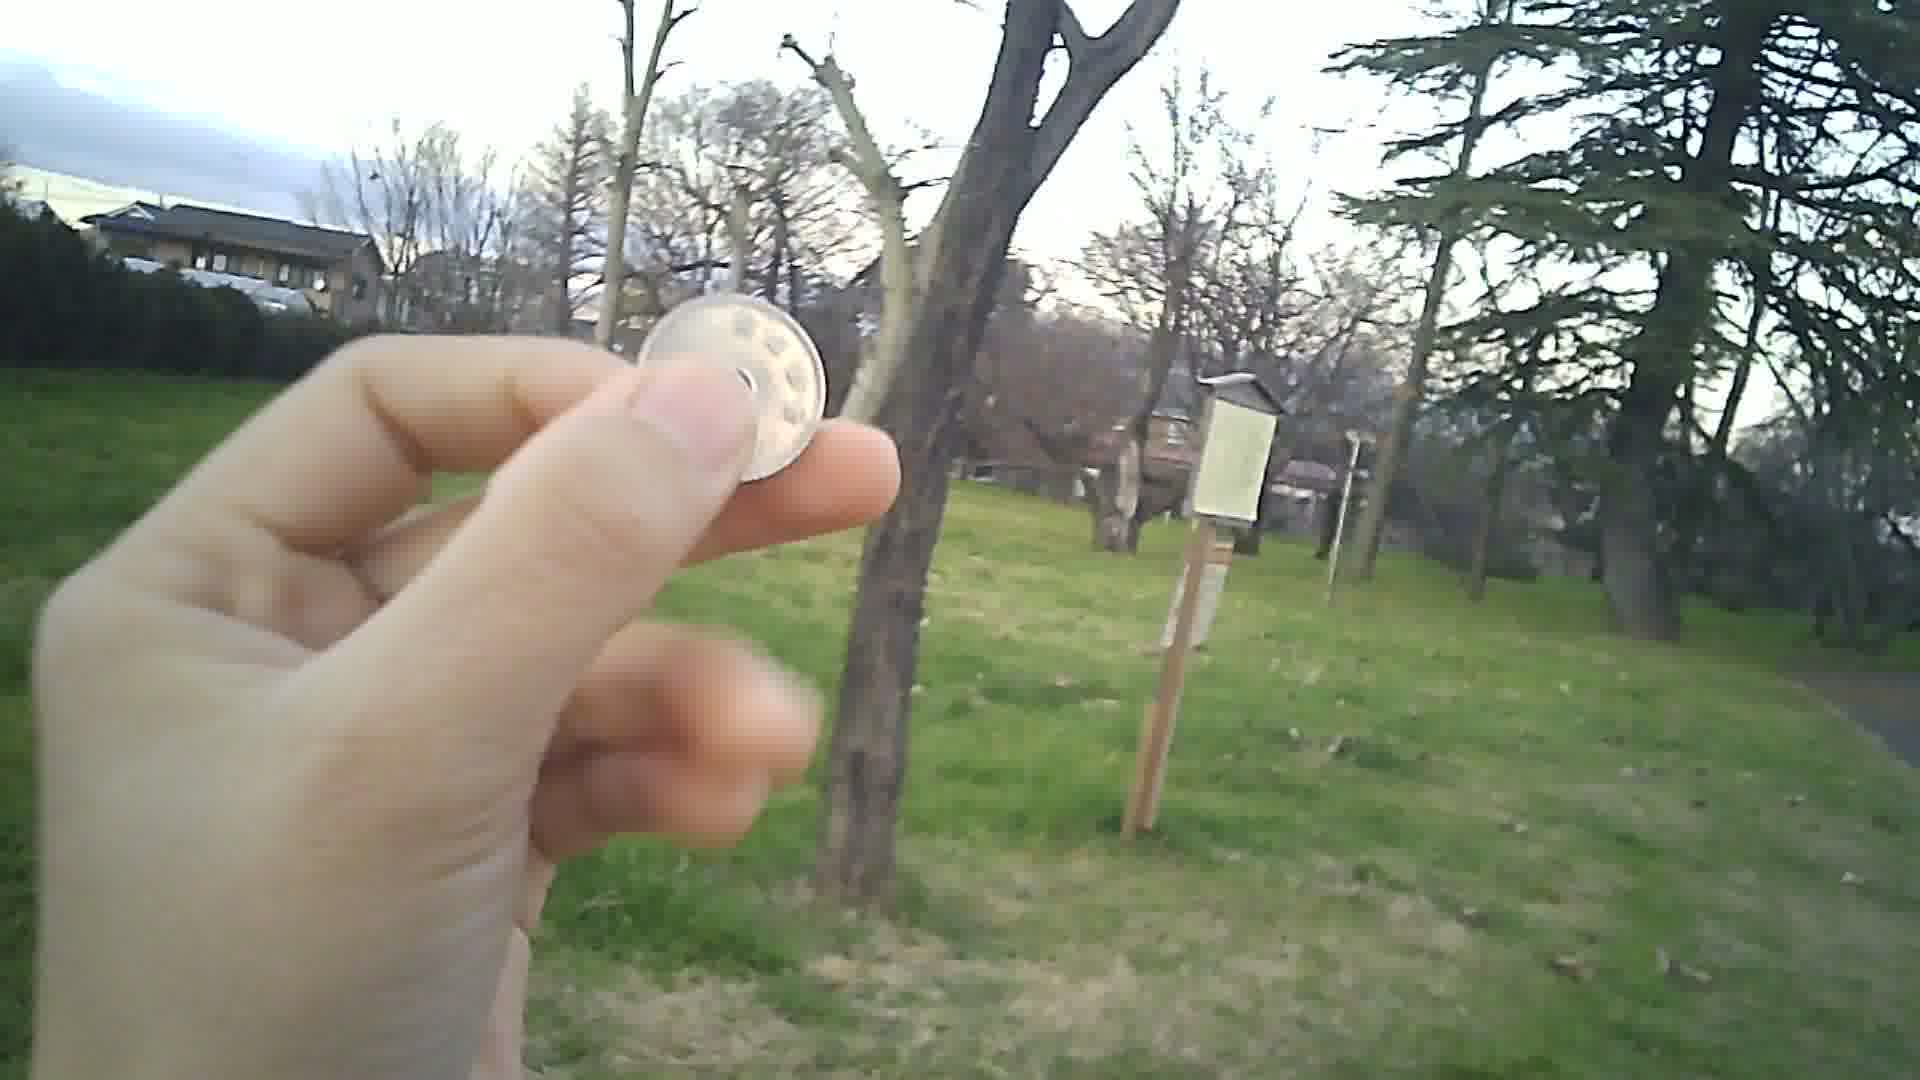50 Yen: (632, 289, 831, 483)
